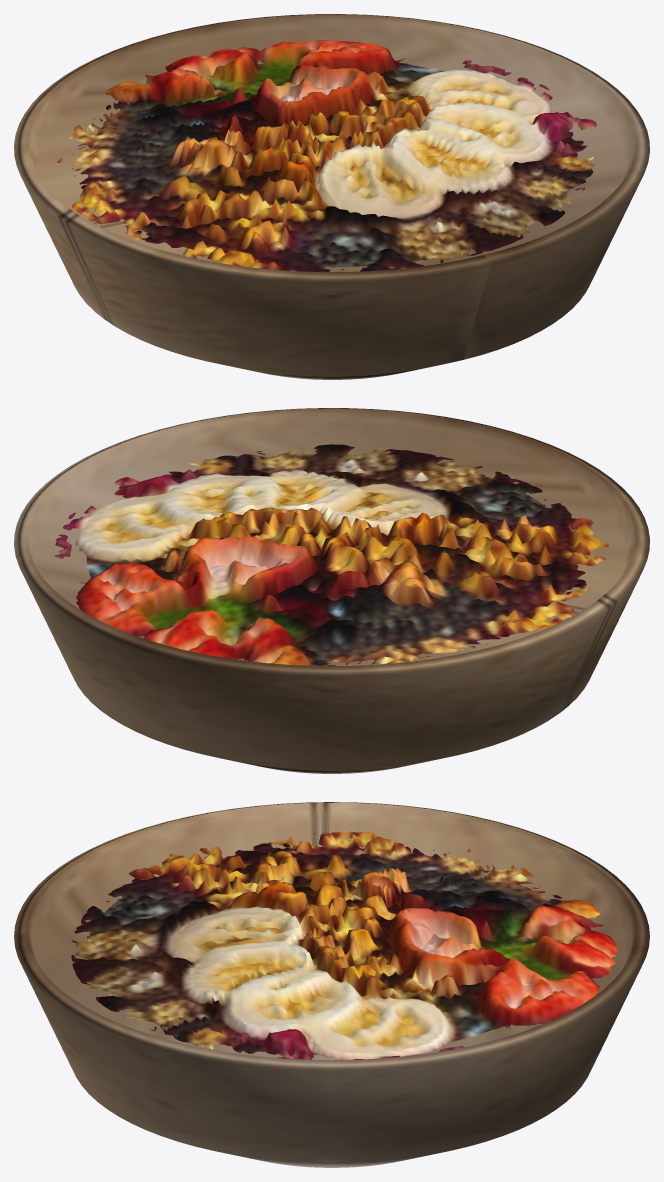
File: acai-bowl.glb
The picture shows the model from 3 angles, top to bottom: view 1: azimuth 30°, elevation 25°; view 2: azimuth 150°, elevation 25°; view 3: azimuth 270°, elevation 25°; orthographic projection.
Visible parts, largest first — view 1: PhotoSculptedAcaiFruitSurface, SpeckledSmoothieBowl; view 2: SpeckledSmoothieBowl, PhotoSculptedAcaiFruitSurface; view 3: SpeckledSmoothieBowl, PhotoSculptedAcaiFruitSurface.
Boxes of the visible parts, bbox=[...] form: PhotoSculptedAcaiFruitSurface: bbox=[57, 40, 596, 271]; SpeckledSmoothieBowl: bbox=[14, 14, 649, 379]; SpeckledSmoothieBowl: bbox=[14, 408, 649, 773]; PhotoSculptedAcaiFruitSurface: bbox=[54, 444, 608, 665]; SpeckledSmoothieBowl: bbox=[14, 802, 649, 1167]; PhotoSculptedAcaiFruitSurface: bbox=[71, 831, 616, 1059].
Size of the model in its own units: 3 by 0.9819 by 3.
2 materials, 2 textured.
